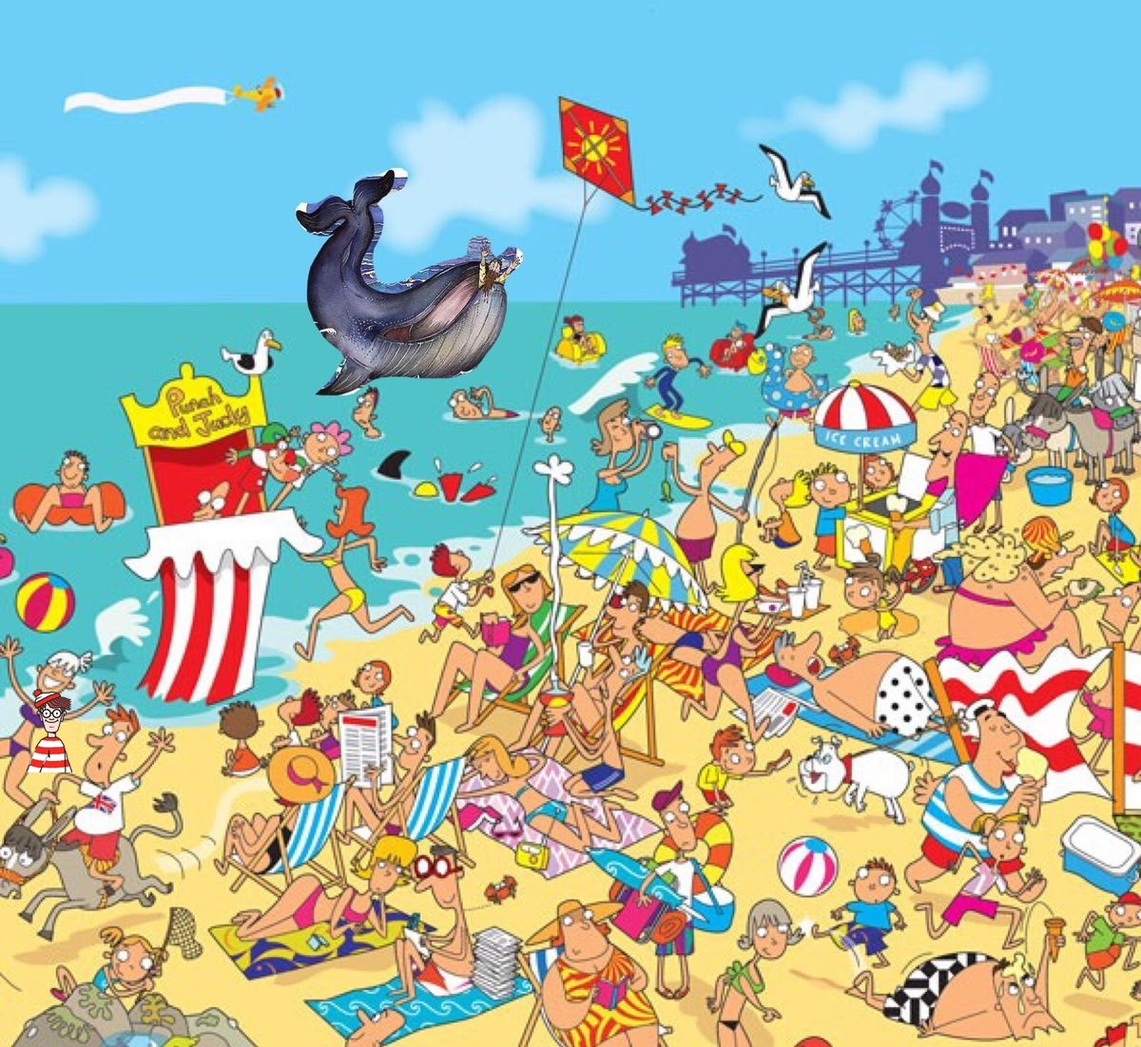waldo: (27, 689, 72, 772)
